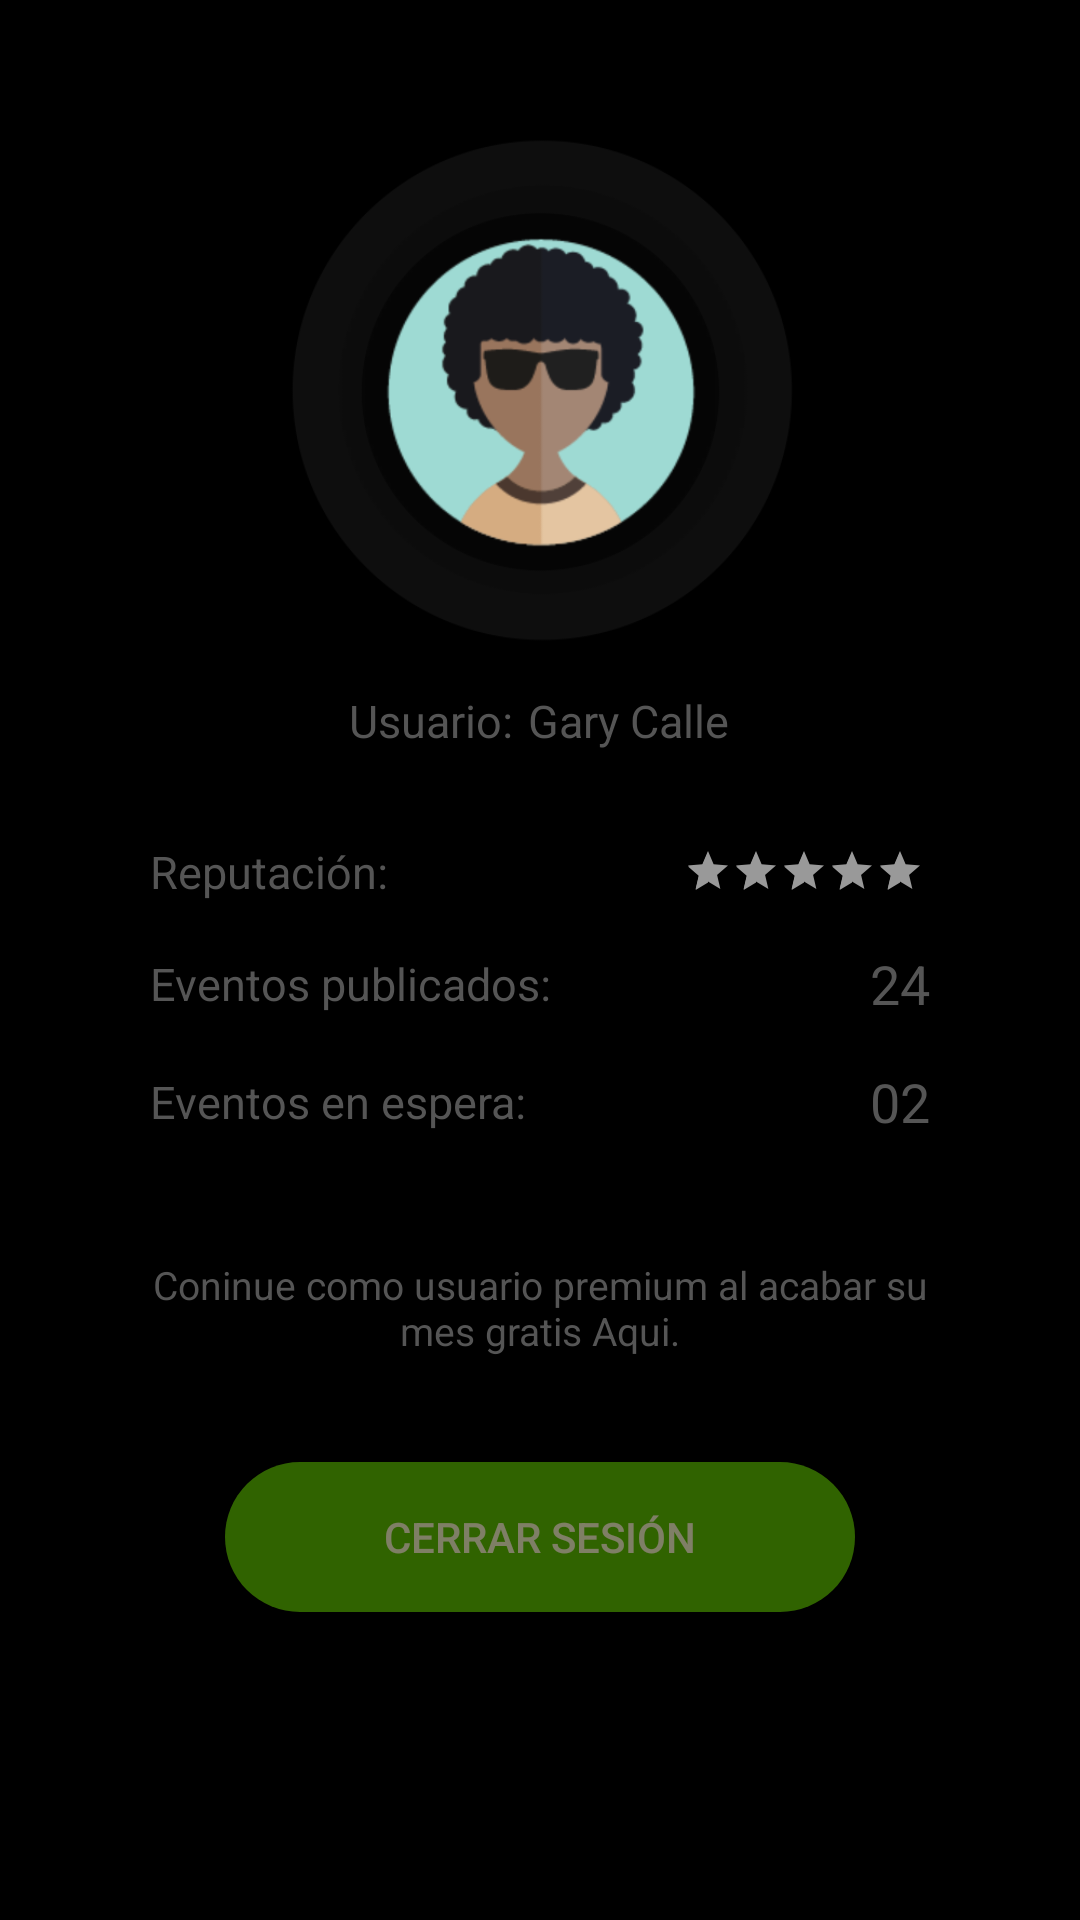

Named icons in this screenshot (1080×1920) and their centers, [x,y]:
user: [541,392]
